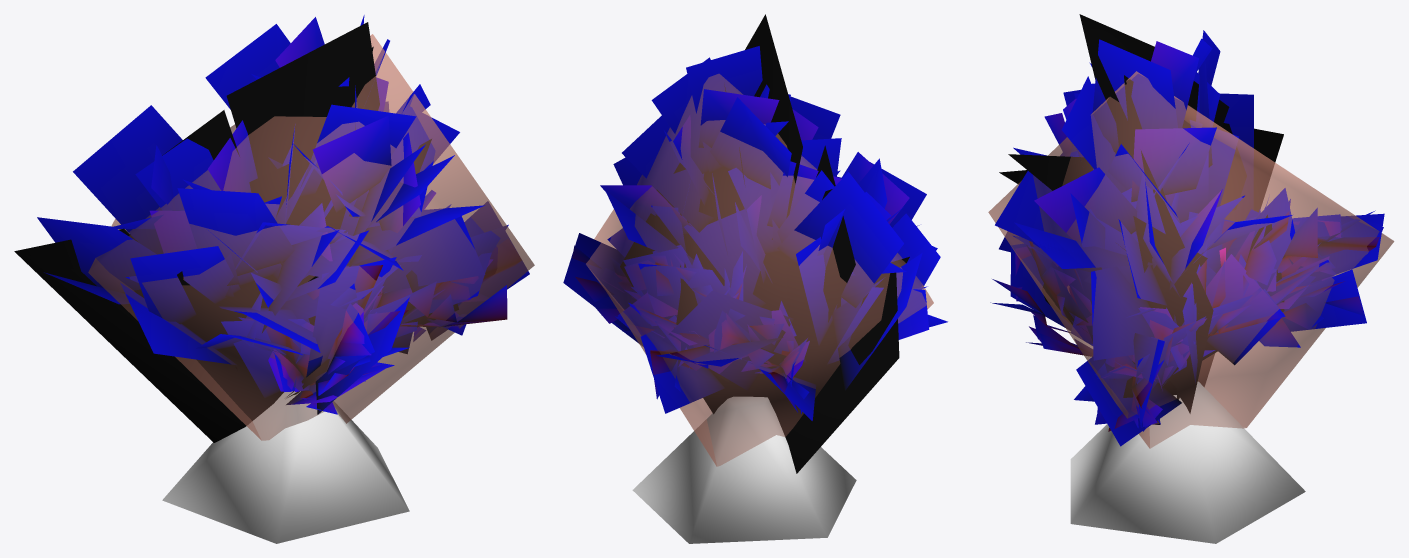
Rendered from tree_beech_bush_d.dae.
The picture shows the model from 3 angles, left to right: view 1: azimuth 30°, elevation 25°; view 2: azimuth 150°, elevation 25°; view 3: azimuth 270°, elevation 25°; orthographic projection. The views are drawn at different scales.
Visible parts, largest first — view 1: Colmesh_bush_d-1, beech_bush_d_a800, beech_bush_d_a300, beech_bush_d_a1300; view 2: Colmesh_bush_d-1, beech_bush_d_a800, beech_bush_d_a300, beech_bush_d_a1300; view 3: Colmesh_bush_d-1, beech_bush_d_a800, beech_bush_d_a300, beech_bush_d_a1300.
Boxes of the visible parts, left/top/right/bottom form: Colmesh_bush_d-1: left=88, top=34, right=534, bottom=543; beech_bush_d_a800: left=14, top=15, right=529, bottom=442; beech_bush_d_a300: left=37, top=24, right=529, bottom=414; beech_bush_d_a1300: left=236, top=224, right=521, bottom=414; Colmesh_bush_d-1: left=586, top=74, right=933, bottom=543; beech_bush_d_a800: left=563, top=14, right=940, bottom=473; beech_bush_d_a300: left=564, top=46, right=947, bottom=420; beech_bush_d_a1300: left=572, top=245, right=809, bottom=413; Colmesh_bush_d-1: left=988, top=71, right=1394, bottom=543; beech_bush_d_a800: left=995, top=14, right=1366, bottom=413; beech_bush_d_a300: left=999, top=30, right=1384, bottom=446; beech_bush_d_a1300: left=990, top=199, right=1383, bottom=431.
Size of the model in its own units: 6.81 by 5.58 by 7.26.
